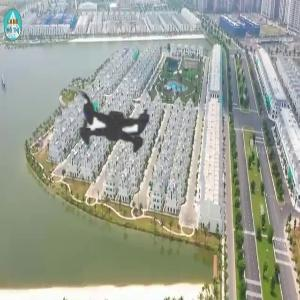drone: (34, 45, 204, 215)
